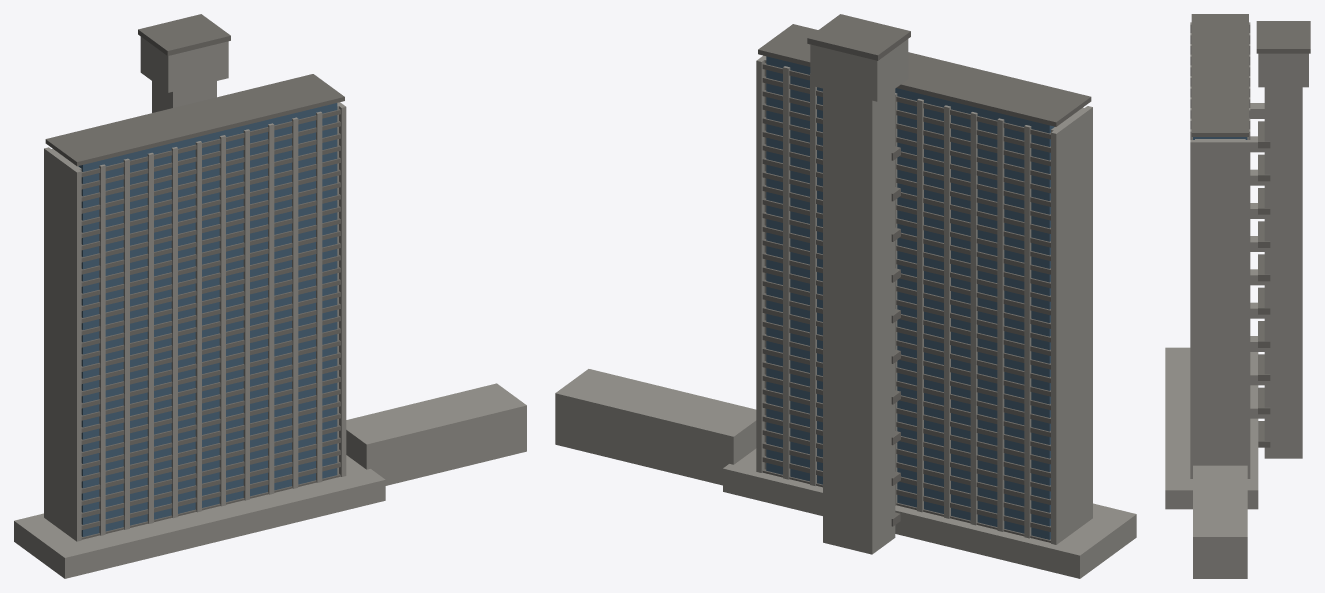
The model's file is trellick_tower.glb.
3 views of the same model, side by side, from view 1: azimuth 30°, elevation 25°; view 2: azimuth 150°, elevation 25°; view 3: azimuth 270°, elevation 25° (orthographic). The views are drawn at different scales.
Parts seen in each view (by area): view 1: trellick_tower; view 2: trellick_tower; view 3: trellick_tower.
Part boxes in pixels (x1,y1,x2,y2): trellick_tower: (14, 14, 526, 578); trellick_tower: (555, 14, 1136, 578); trellick_tower: (1165, 14, 1310, 578).
Bounding box in the file's own units: 119 × 108 × 34.4.
